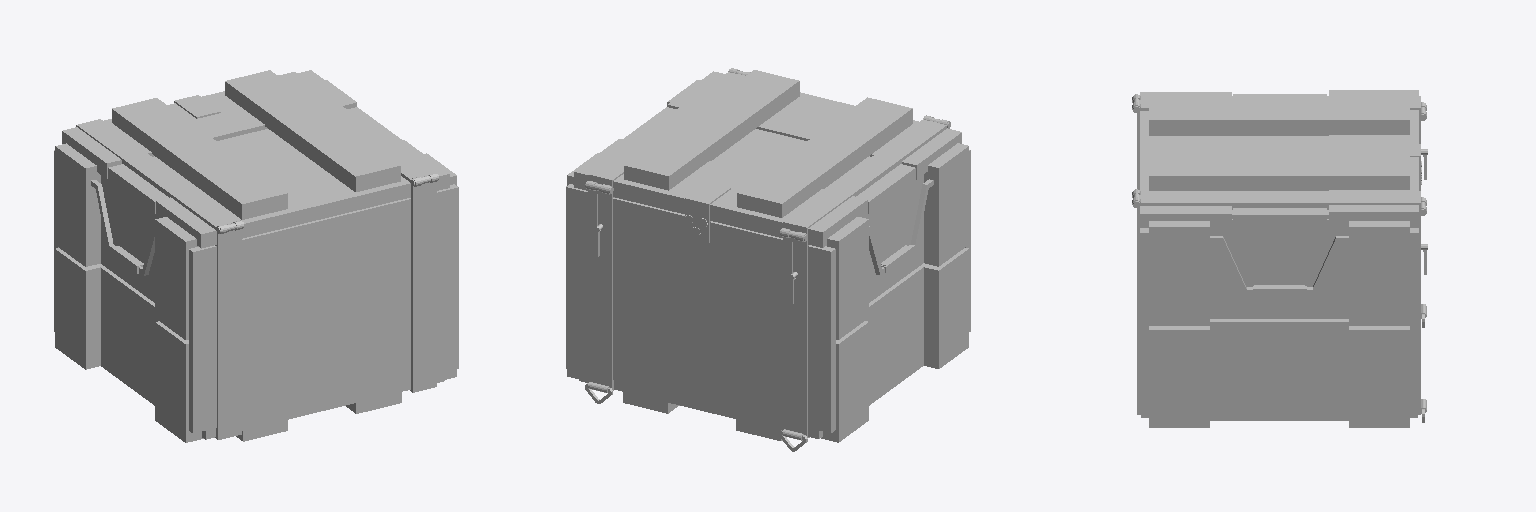
The model's file is caisse_premium.obj.
3 renders of one model, left to right at view 1: azimuth 30°, elevation 25°; view 2: azimuth 150°, elevation 25°; view 3: azimuth 270°, elevation 25°, orthographic.
Parts seen in each view (by area): view 1: cube, Contour; view 2: cube, Contour, hexadecagon; view 3: cube, Contour, hexadecagon.
Part boxes in pixels (x1,y1,x2,y2): cube: (54, 70, 458, 442); Contour: (76, 72, 436, 439); cube: (566, 70, 970, 442); Contour: (588, 72, 946, 437); hexadecagon: (585, 68, 950, 451); cube: (1140, 90, 1418, 427); Contour: (1137, 96, 1421, 414); hexadecagon: (1132, 94, 1427, 422).
Size of the model in its own units: 1.12 by 0.9419 by 1.06.